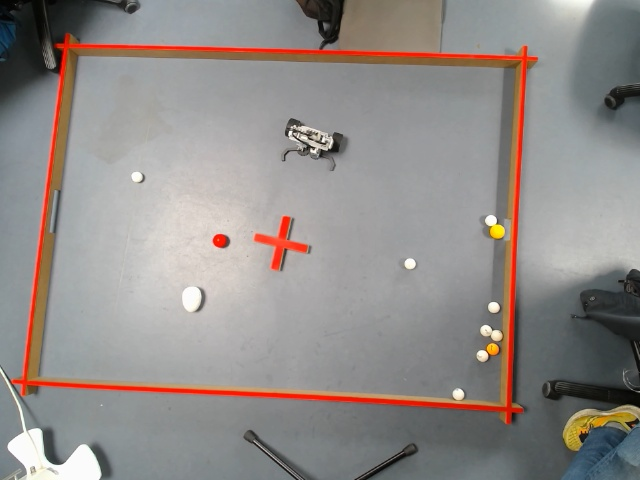big_goal: (30, 182, 68, 237)
cross: (233, 203, 326, 283)
egg: (170, 281, 217, 319)
orange: (485, 218, 510, 242), (482, 336, 504, 358)
robot: (268, 107, 358, 178)
small_goal: (492, 209, 533, 256)
wall: (1, 370, 529, 428), (6, 30, 79, 404), (39, 26, 549, 71), (491, 32, 544, 436)
white: (445, 382, 472, 406), (478, 296, 508, 316), (121, 166, 149, 187), (477, 208, 500, 232), (471, 322, 496, 340), (396, 254, 420, 271), (486, 326, 508, 343)
